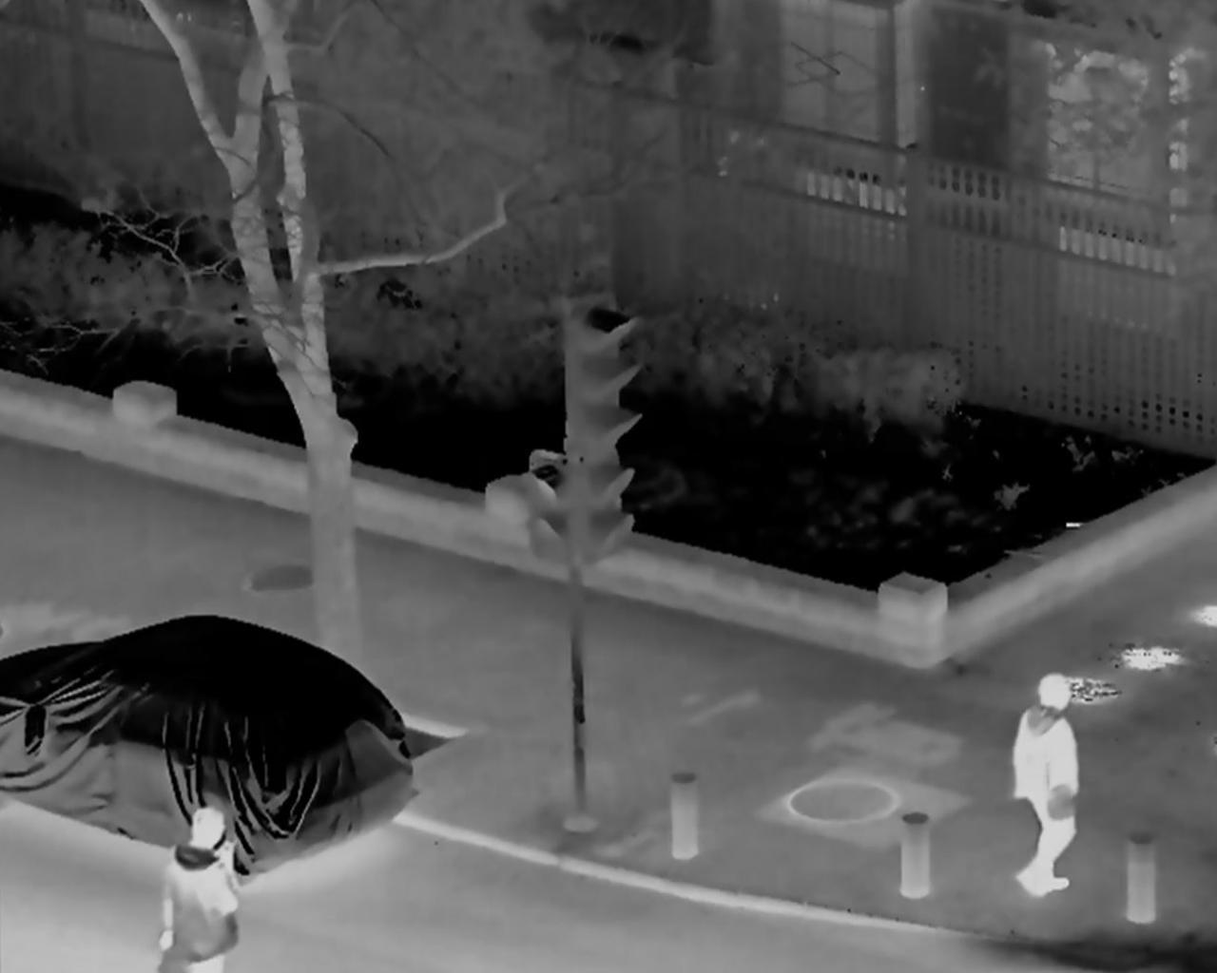person: (1012, 675, 1077, 901), (154, 810, 239, 973)
